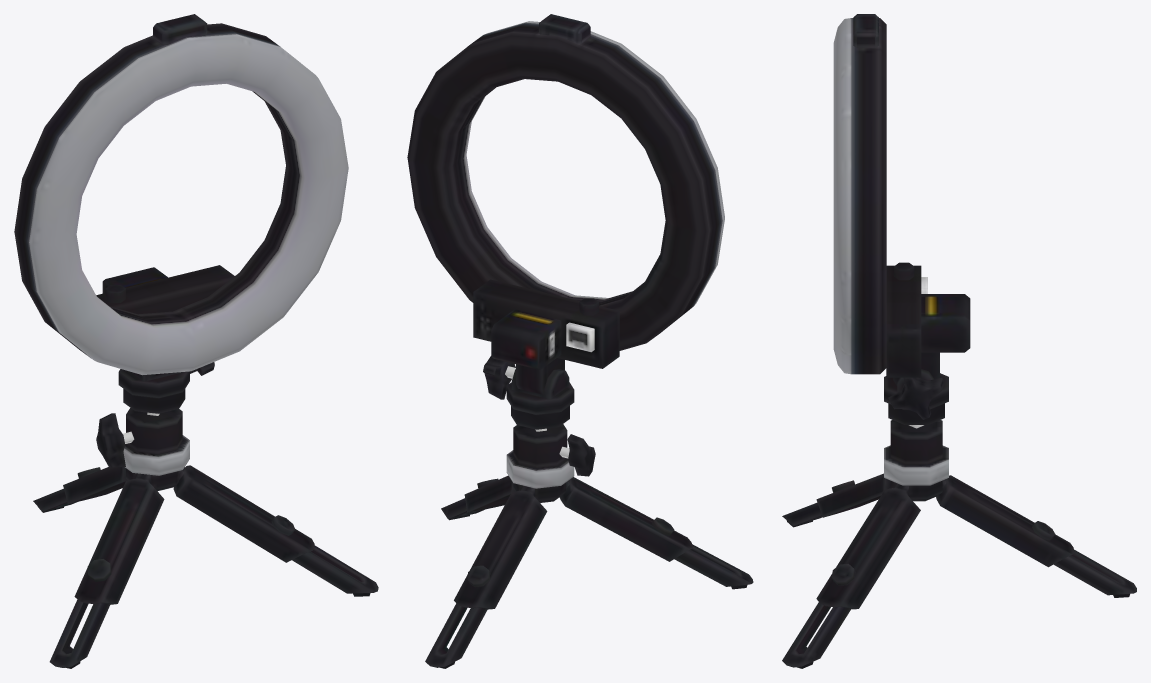
3 views of the same model, side by side, from view 1: azimuth 30°, elevation 25°; view 2: azimuth 150°, elevation 25°; view 3: azimuth 270°, elevation 25° (orthographic). The views are drawn at different scales.
Bounding box in the file's own units: 4.79 × 8.14 × 4.6.
1 material, 1 textured.
